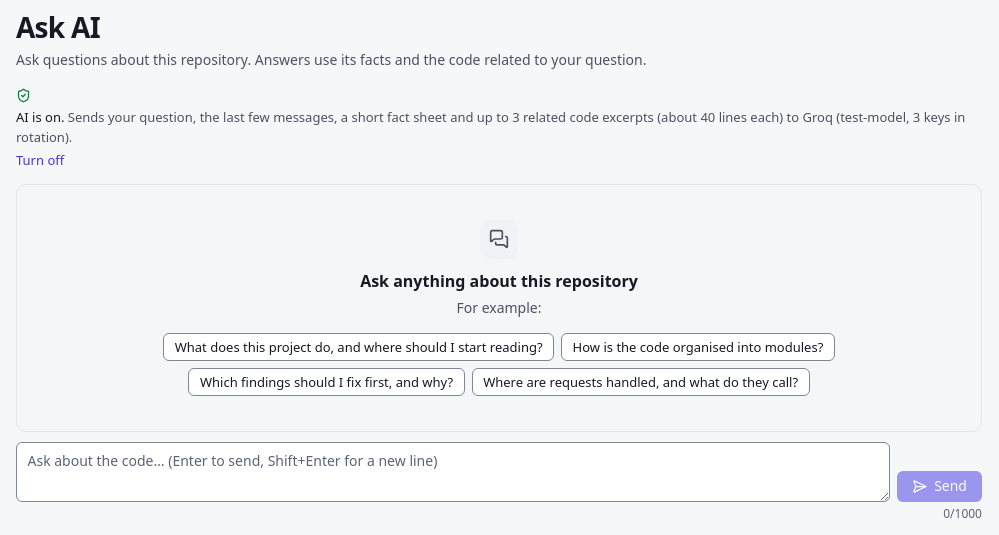
repository chat › sends a question and shows the answer with its code sources
Later steps or results of the test are not shown.
Expected: the text "AI is on." is shown, x1=16 y1=108 x2=64 y2=126
Type "Where is login?" into the text box named "Your question" at (453, 472), box x1=16 y1=442 x2=890 y2=502
Then press Enter
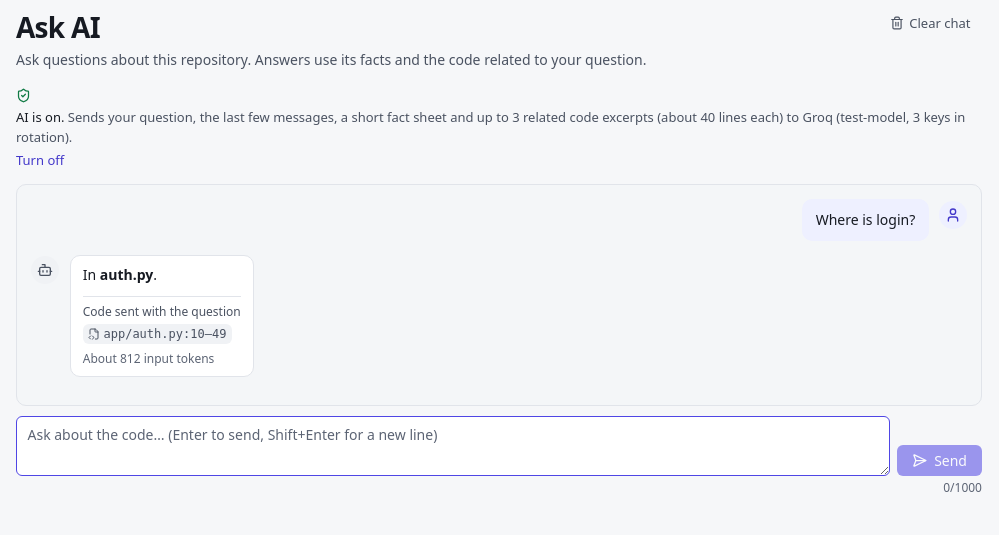
Now the text "auth.py" is shown, box x1=100 y1=265 x2=153 y2=284
Now the text "About 812 input tokens" is shown, box x1=83 y1=350 x2=214 y2=367
